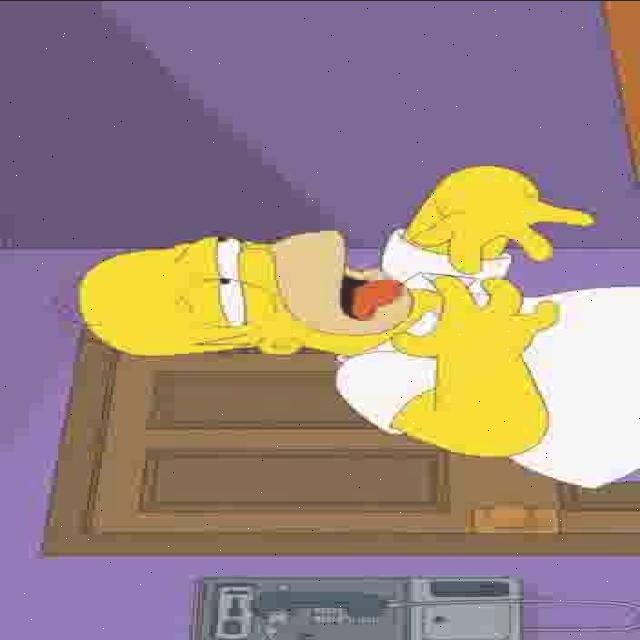Homer Simpson: (67, 225, 420, 364)
